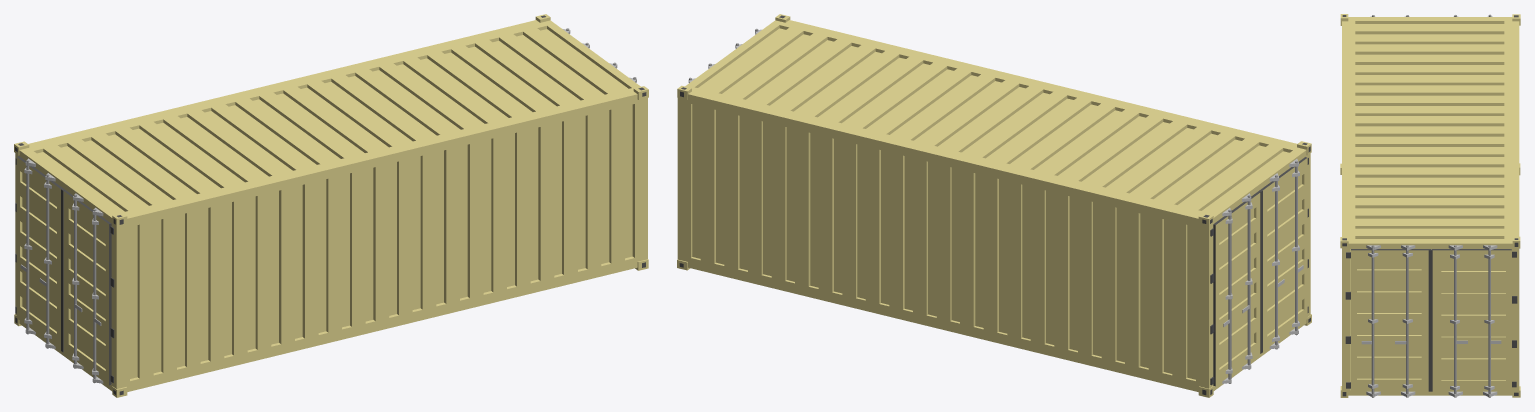
File: container.fbx
3 views of the same model, side by side, from view 1: azimuth 30°, elevation 25°; view 2: azimuth 150°, elevation 25°; view 3: azimuth 270°, elevation 25° (orthographic). The views are drawn at different scales.
Visible parts, largest first — view 1: Extrude_1; view 2: Extrude_1; view 3: Extrude_1.
Part boxes in pixels (x1,y1,x2,y2): Extrude_1: [14, 14, 648, 397]; Extrude_1: [677, 14, 1311, 397]; Extrude_1: [1340, 14, 1520, 397].
Size of the model in its own units: 916 by 287 by 299.
